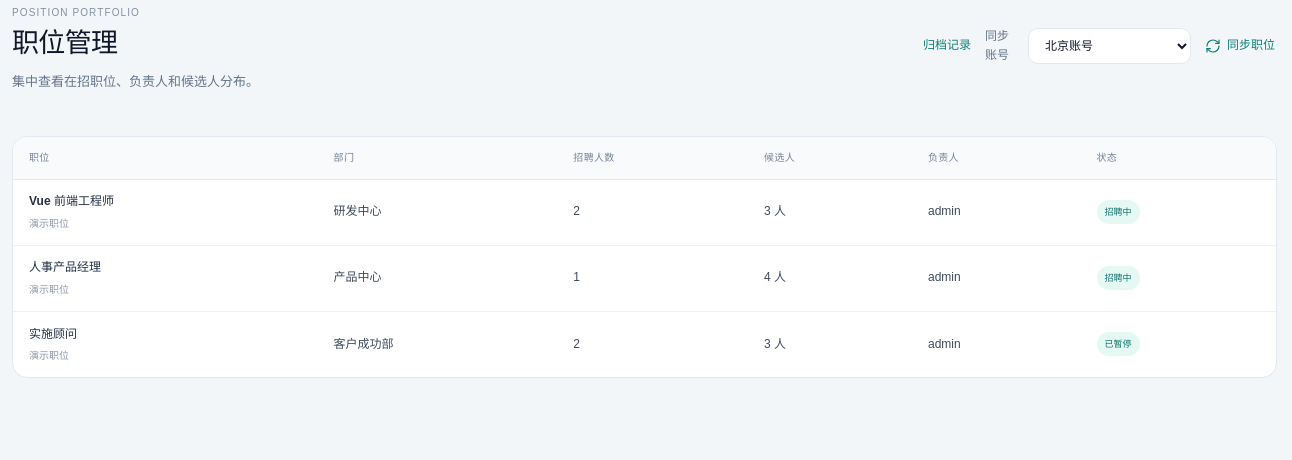
Scenario: RecruitmentJobsView › does not refresh the shared job selector when sync needs human action
This screenshot has width=1292, height=460.
Click the button with test id "sync-positions": (1240, 46) x1=1203 y1=32 x2=1277 y2=60
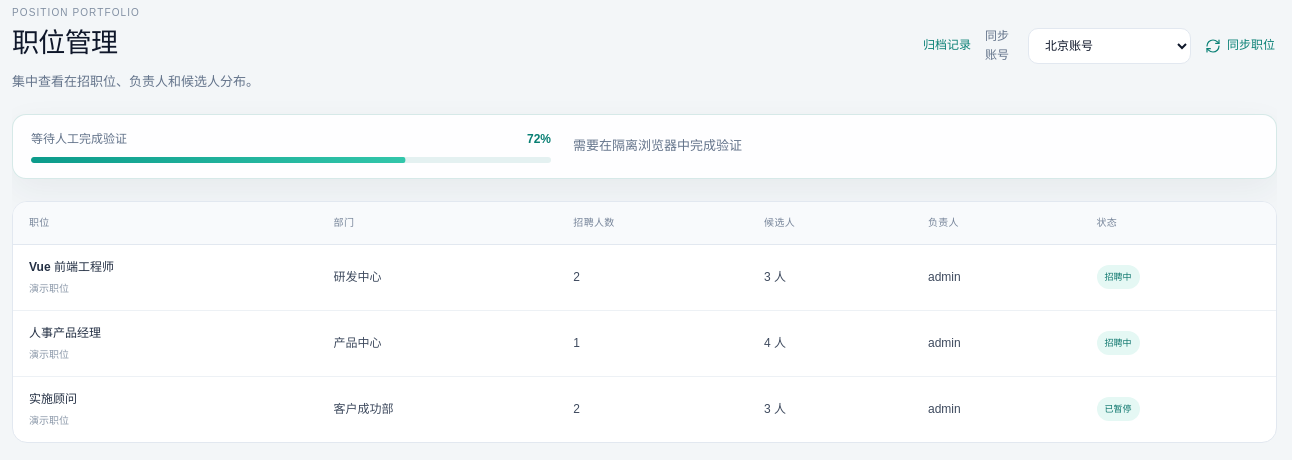
Check: the text "需要在隔离浏览器中完成验证" is shown, box x1=573 y1=138 x2=742 y2=153
